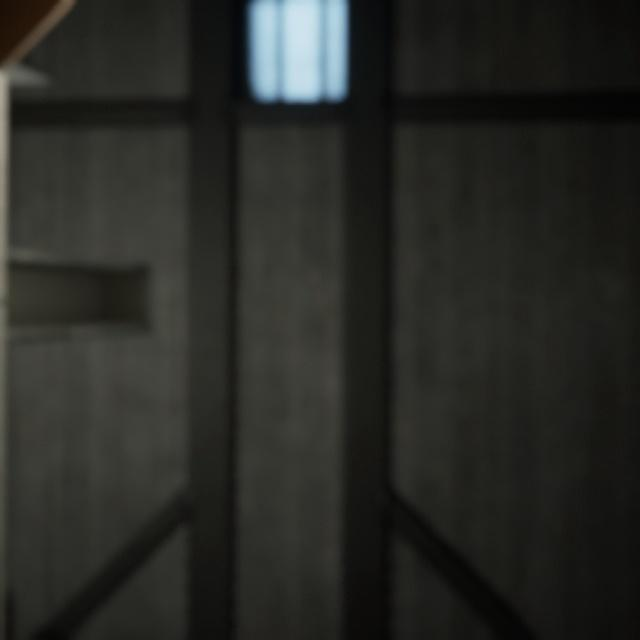bolt: (177, 610, 271, 640)
